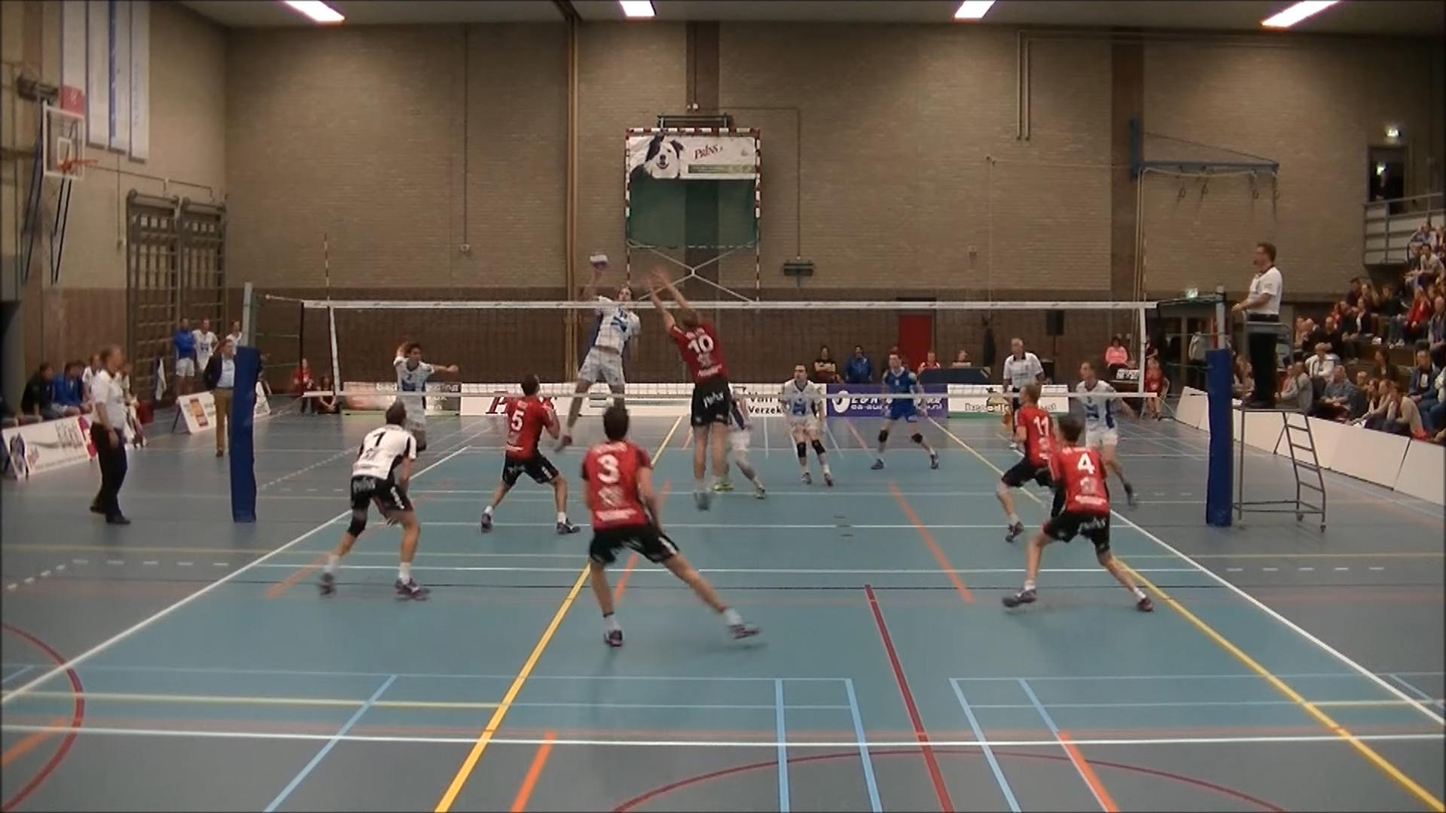Attack: (552, 243, 642, 463)
Block: (636, 267, 741, 506)
Player: (581, 404, 758, 646), (1002, 416, 1153, 611), (319, 402, 427, 598), (480, 374, 579, 534), (996, 383, 1054, 540), (1075, 361, 1136, 507), (871, 352, 938, 469), (394, 342, 458, 452), (779, 364, 833, 486), (728, 392, 765, 498)
ball: (579, 243, 613, 277)
